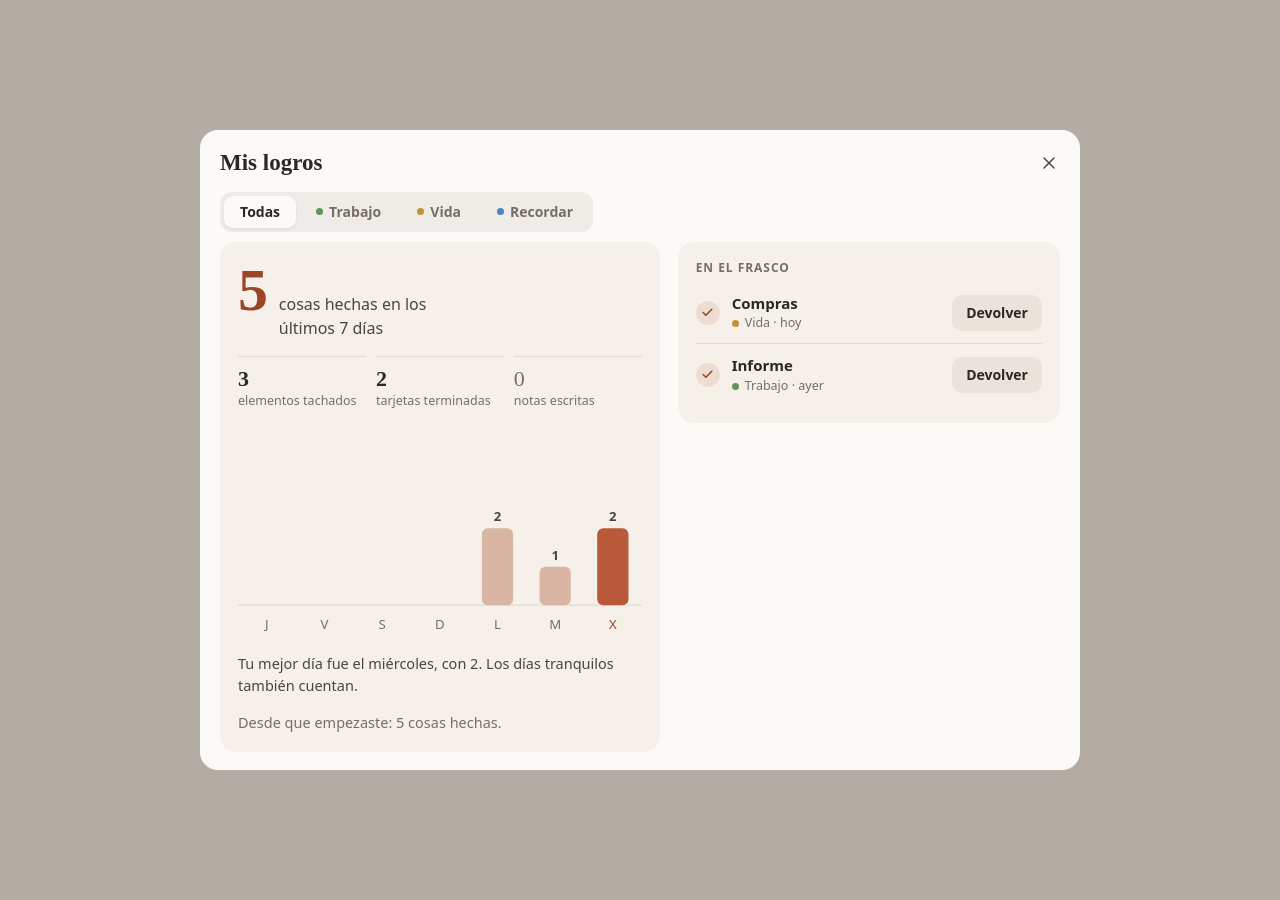
it: MisLogros by Area › a quiet Area says that quiet days count too, and shows no warning
Click the button "Recordar". click: (535,212)
box: [481,196,589,228]
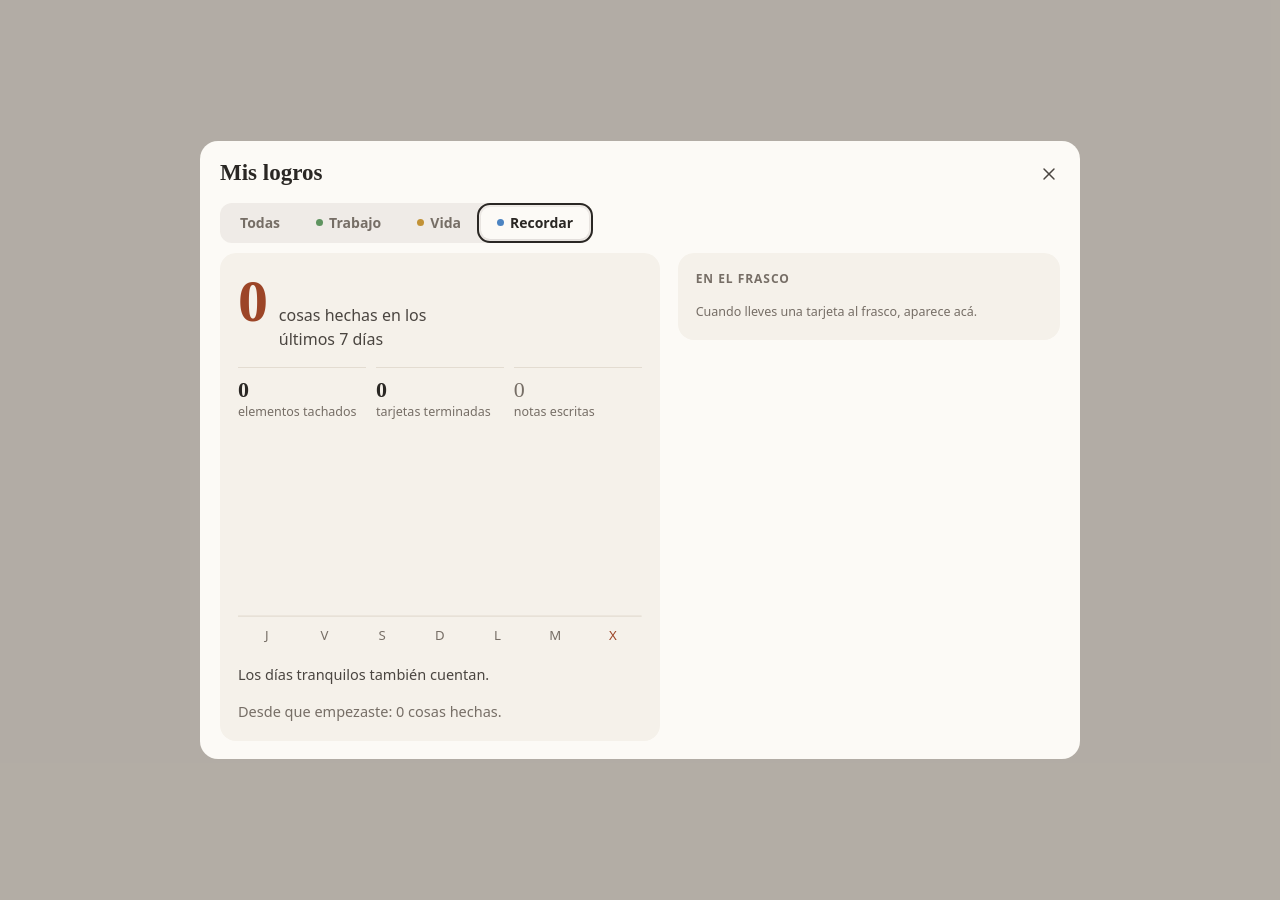
Expected: the text "Los días tranquilos también cuentan." is shown, [238,664,489,684]
Expected: the text "Cuando lleves una tarjeta al frasco, aparece acá." is shown, [696,303,977,320]
